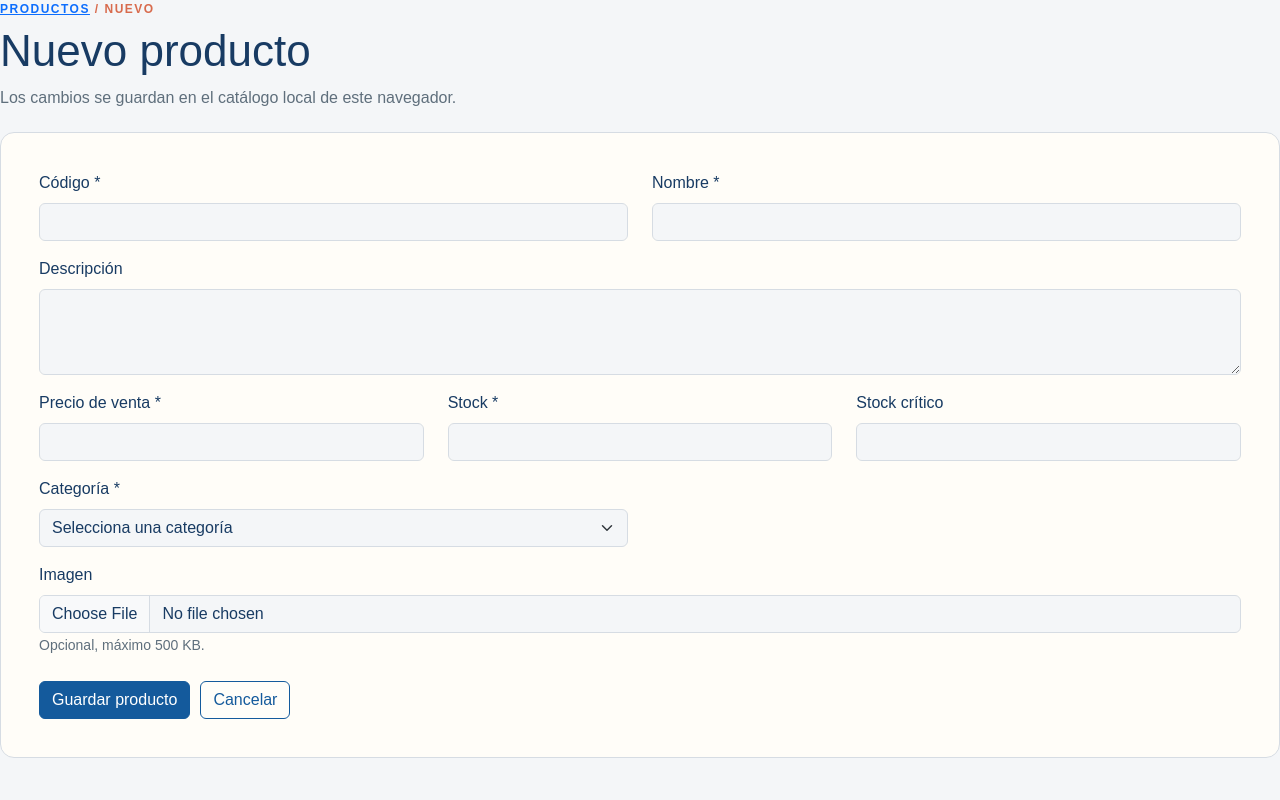
it: AdminProductoFormContainer › muestra errores y no guarda si faltan datos
Click the button "Guardar producto" at (115, 700), box top-left (39, 681), bottom-right (190, 719)
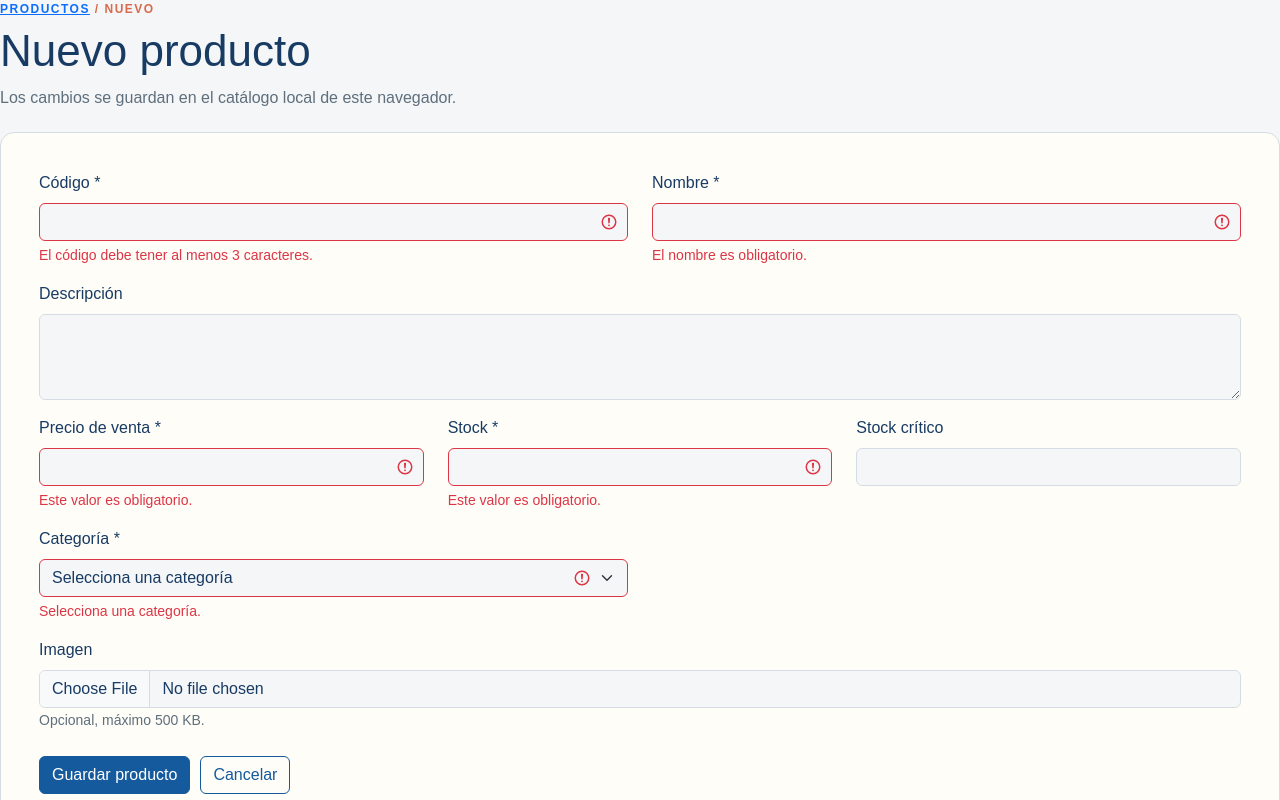
expect the text "El código debe tener al menos 3 caracteres." is shown: met, box top-left (39, 247), bottom-right (313, 263)
expect the text "Selecciona una categoría." is shown: met, box top-left (39, 603), bottom-right (201, 619)
